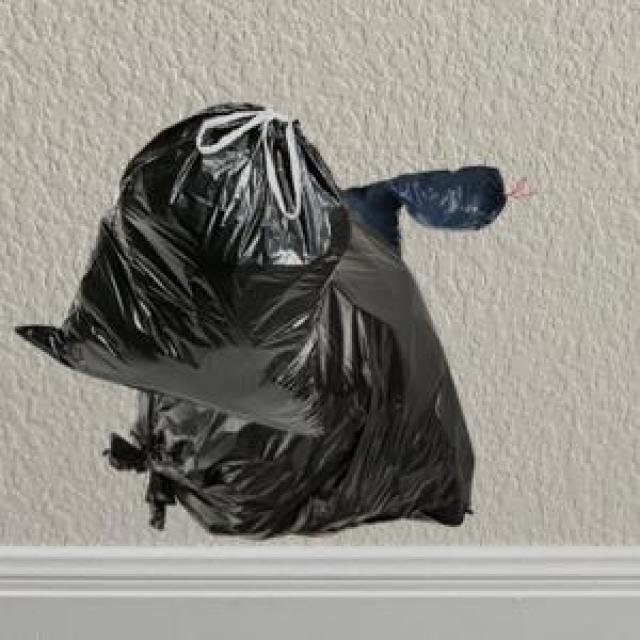waste: (18, 104, 508, 536)
